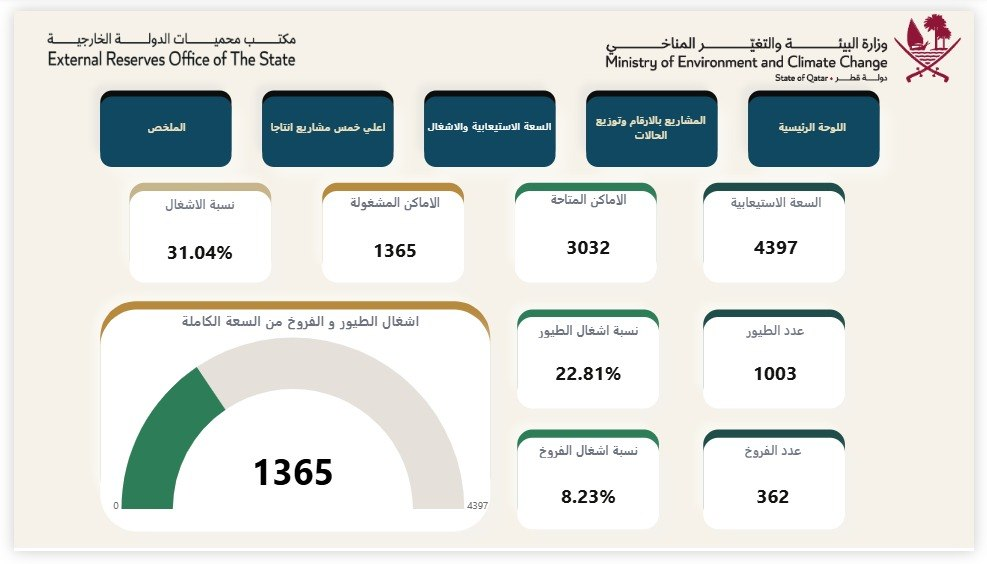

What the dashboard file says about the page in this screenshot:
{"tool":"powerbi","page":{"name":"السعة الاستيعابية والاشغال","canvas":[1600,900],"ordinal":2},"visuals":[{"type":"gauge","title":"اشغال الطيور و الفروخ من السعة الكاملة","fields":{"Y":["Qatar.Birds and Chicks"],"MaxValue":["Qatar.Total Capacity"]},"box":[154.3,492.3,644.7,355.6],"z":0},{"type":"cardVisual","title":"نسبة الاشغال","fields":{"Data":["Qatar.Percentage of Capacity"]},"box":[187.5,300,245,162.5],"z":1000},{"type":"cardVisual","title":"نسبة اشغال الفروخ","fields":{"Data":["Qatar.Production Capacity of chicks"]},"box":[837.5,710,240,157.5],"z":2000},{"type":"cardVisual","title":"نسبة اشغال الطيور","fields":{"Data":["Qatar.Percentage of birds Capacity"]},"box":[837.5,510,240,147.5],"z":3000},{"type":"cardVisual","title":"الاماكن المتاحة","fields":{"Data":["Qatar.remaining cap"]},"box":[837.5,292.5,240,162.5],"z":4000},{"type":"cardVisual","title":"الاماكن المشغولة","fields":{"Data":["Qatar.Birds and Chicks"]},"box":[515,297.5,240,162.5],"z":5000},{"type":"cardVisual","title":"عدد الفروخ","fields":{"Data":["Qatar.Total Chicks"]},"box":[1145,710,240,157.5],"z":6000},{"type":"pageNavigator","box":[135,127.5,1315,137.5],"z":7000},{"type":"cardVisual","title":"عدد الطيور","fields":{"Data":["Qatar.Total Birds"]},"box":[1152.5,510,232.5,147.5],"z":8000},{"type":"cardVisual","title":"السعة الاستيعابية","fields":{"Data":["Qatar.Total Capacity"]},"box":[1150,297.5,240,152.5],"z":9000}]}

Visuals, with their boxes in screenshot pixels (x1, y1, x2, y2), scaled from the page's 1600x900 canvas onto the 987x564 screenshot:
"اشغال الطيور و الفروخ من السعة الكاملة" gauge: bbox(95, 309, 493, 531)
"نسبة الاشغال" cardVisual: bbox(116, 188, 267, 290)
"نسبة اشغال الفروخ" cardVisual: bbox(517, 445, 665, 544)
"نسبة اشغال الطيور" cardVisual: bbox(517, 320, 665, 412)
"الاماكن المتاحة" cardVisual: bbox(517, 183, 665, 285)
"الاماكن المشغولة" cardVisual: bbox(318, 186, 466, 288)
"عدد الفروخ" cardVisual: bbox(706, 445, 854, 544)
pageNavigator: bbox(83, 80, 894, 166)
"عدد الطيور" cardVisual: bbox(711, 320, 854, 412)
"السعة الاستيعابية" cardVisual: bbox(709, 186, 857, 282)
